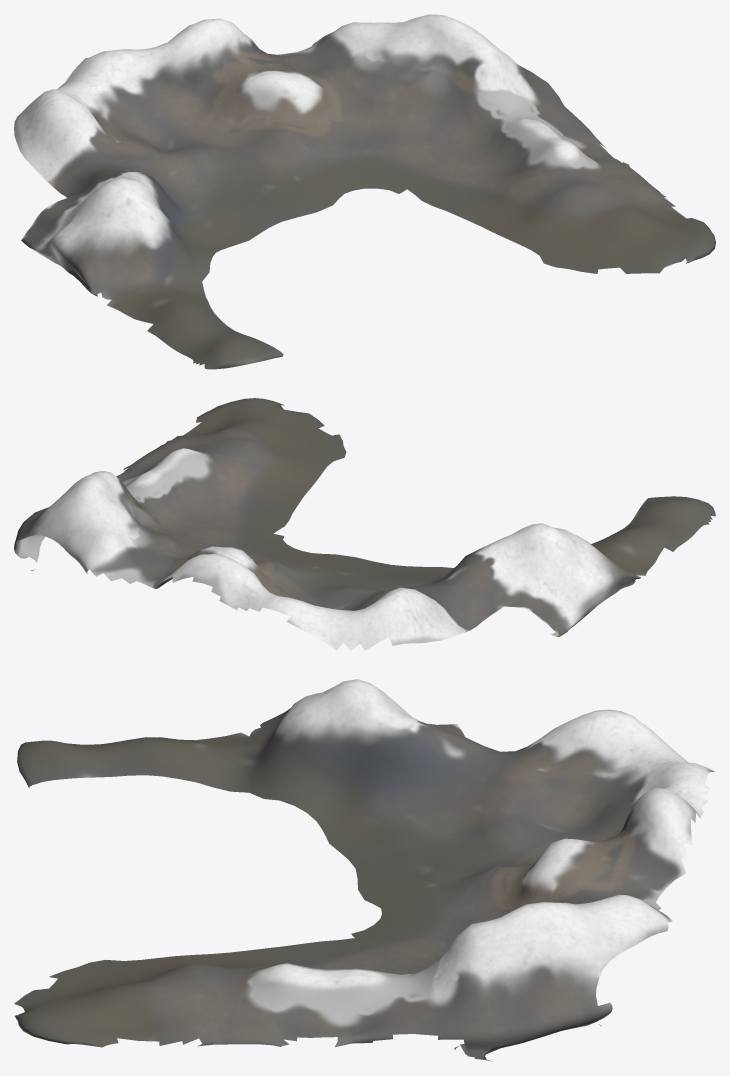
File: Terrain_Low.fbx
3 views of the same model, one above another, from view 1: azimuth 30°, elevation 25°; view 2: azimuth 150°, elevation 25°; view 3: azimuth 270°, elevation 25° (orthographic). The views are drawn at different scales.
Visible parts, largest first — view 1: Terrain_low:Terrain_Low; view 2: Terrain_low:Terrain_Low; view 3: Terrain_low:Terrain_Low.
Part boxes in pixels (<box>): Terrain_low:Terrain_Low: <box>14,14,715,369</box>; Terrain_low:Terrain_Low: <box>14,398,715,650</box>; Terrain_low:Terrain_Low: <box>14,679,714,1061</box>.
Bounding box in the file's own units: 88748 × 14009 × 81359.
